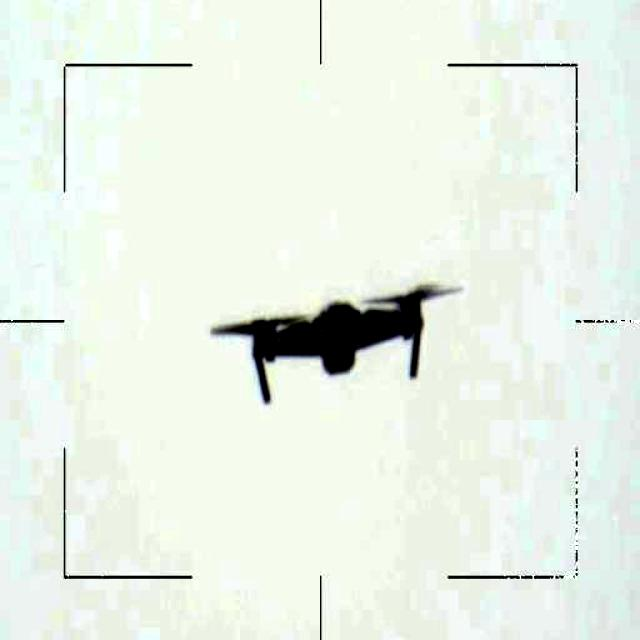bird: (206, 284, 456, 402)
